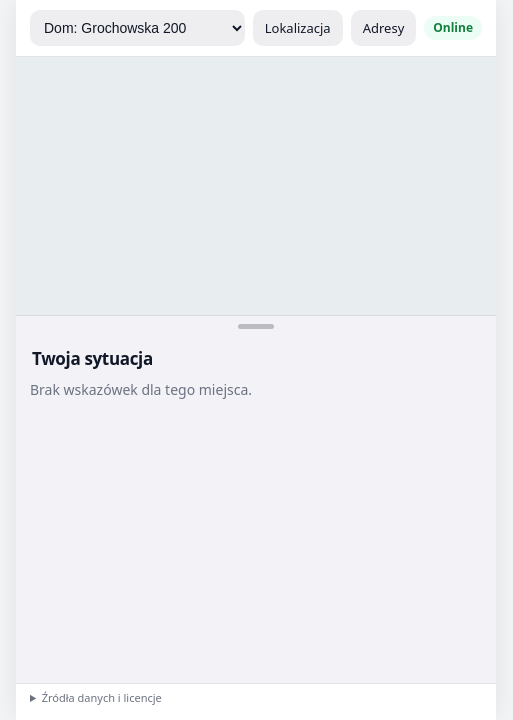
Test: pasek › poza Warszawą pokazuje komunikat w pasku i zostawia dotychczasowe miejsca
Click the button with aria-label "Użyj mojej lokalizacji". click: click(298, 28)
box: [253,10,343,46]
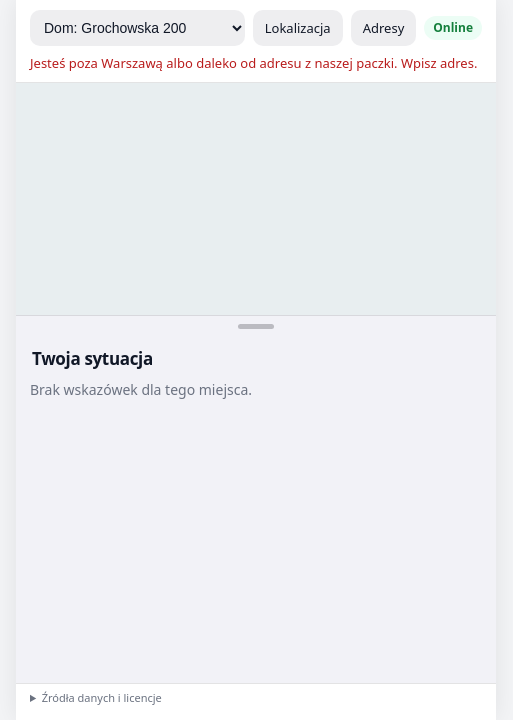
Expected: the dropdown named "Wybrane miejsce" shows "Dom: Grochowska 200", [30,10,245,46]
Expected: the message "Jesteś poza Warszawą albo daleko od adresu z naszej paczki. Wpisz adres." is shown, [30,54,482,72]
